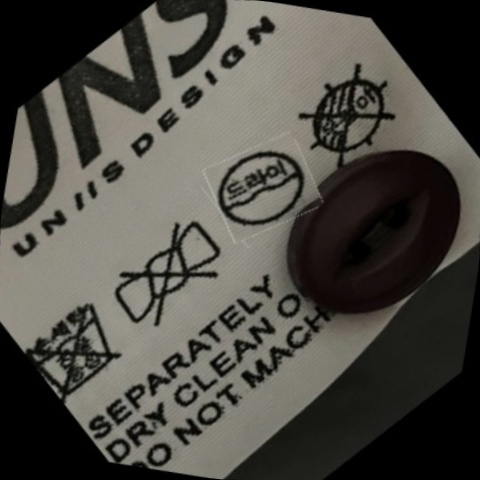DN_dry: (287, 55, 408, 177)
DN_wring: (100, 209, 236, 344)
dry_clean: (208, 133, 317, 245)
hand_wash: (20, 284, 135, 407)
